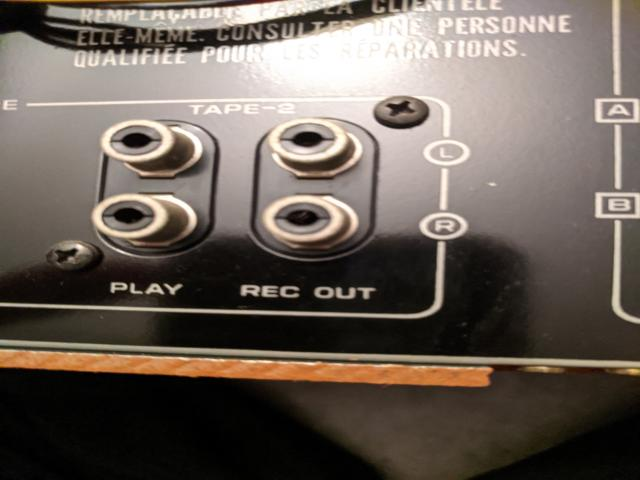CRS: (369, 96, 432, 128), (44, 241, 102, 272)
